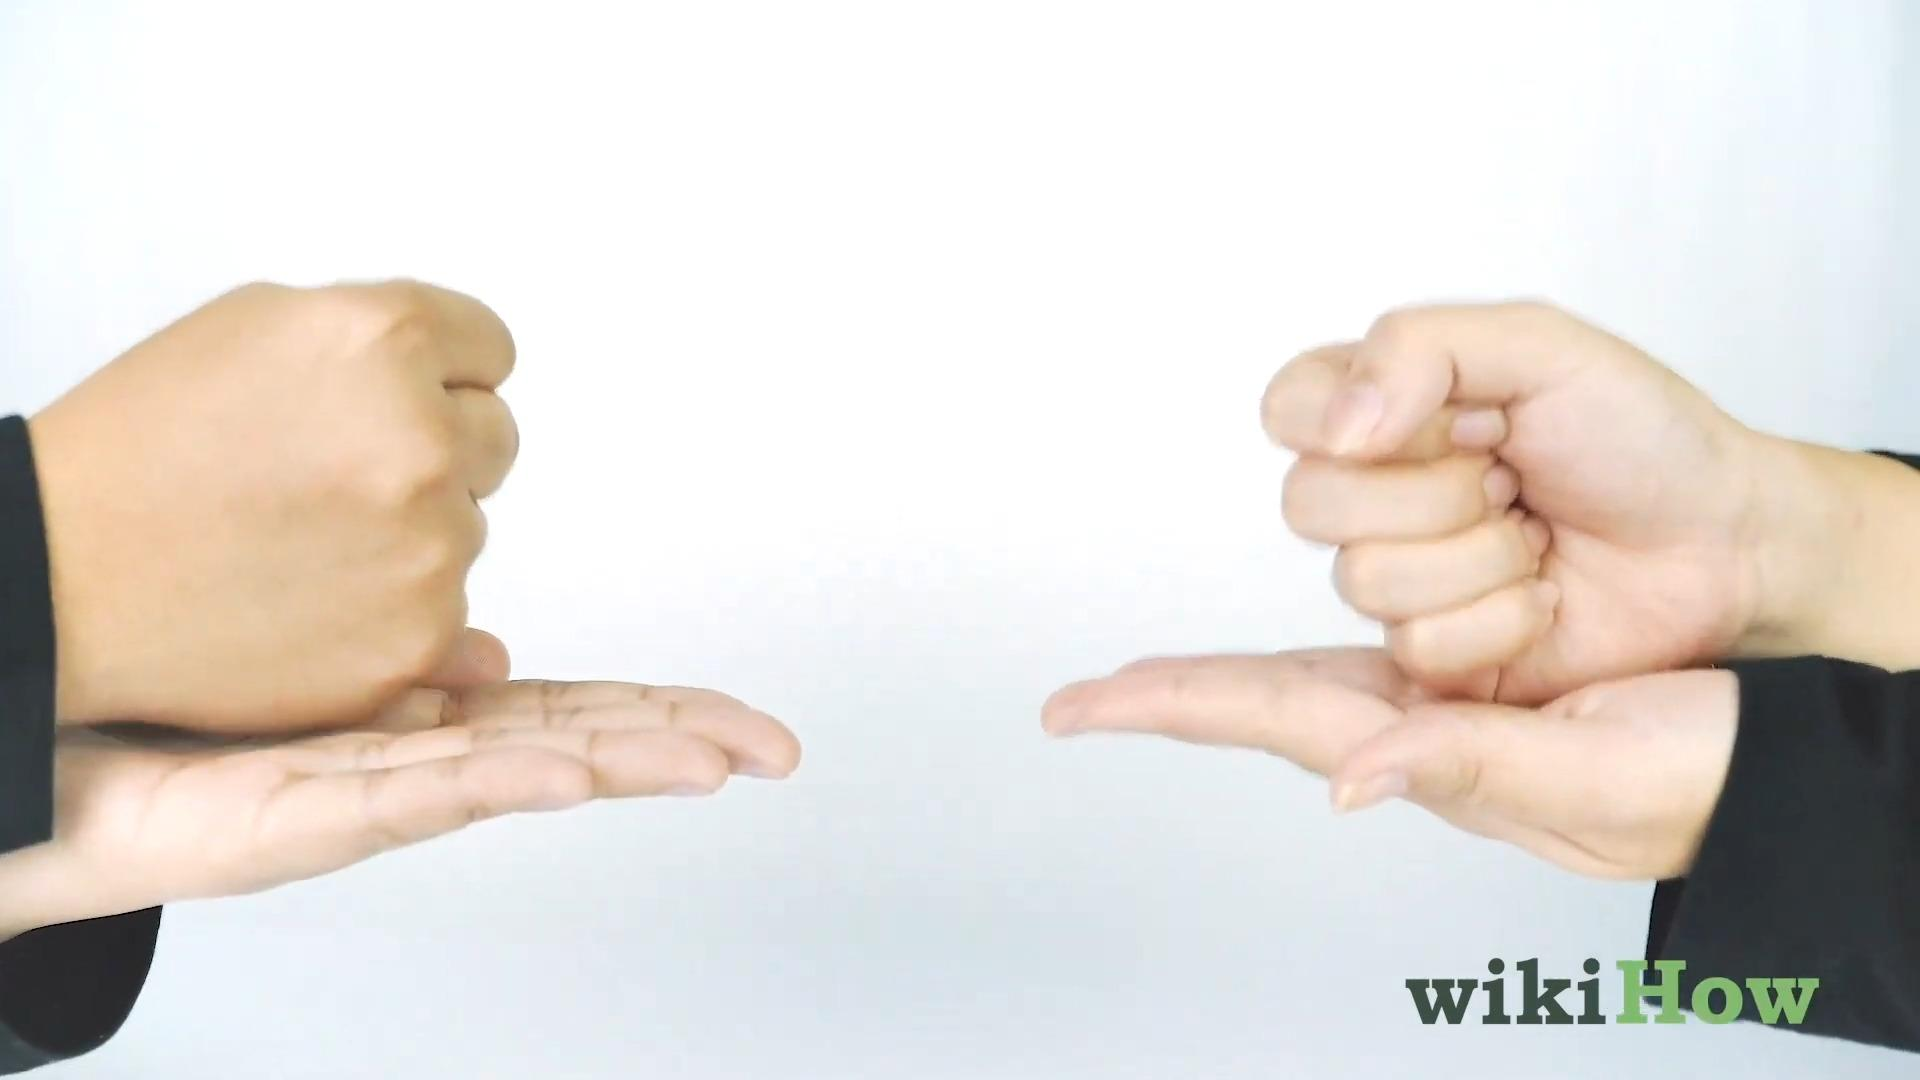Rock: (45, 268, 526, 750), (1258, 295, 1776, 705)
